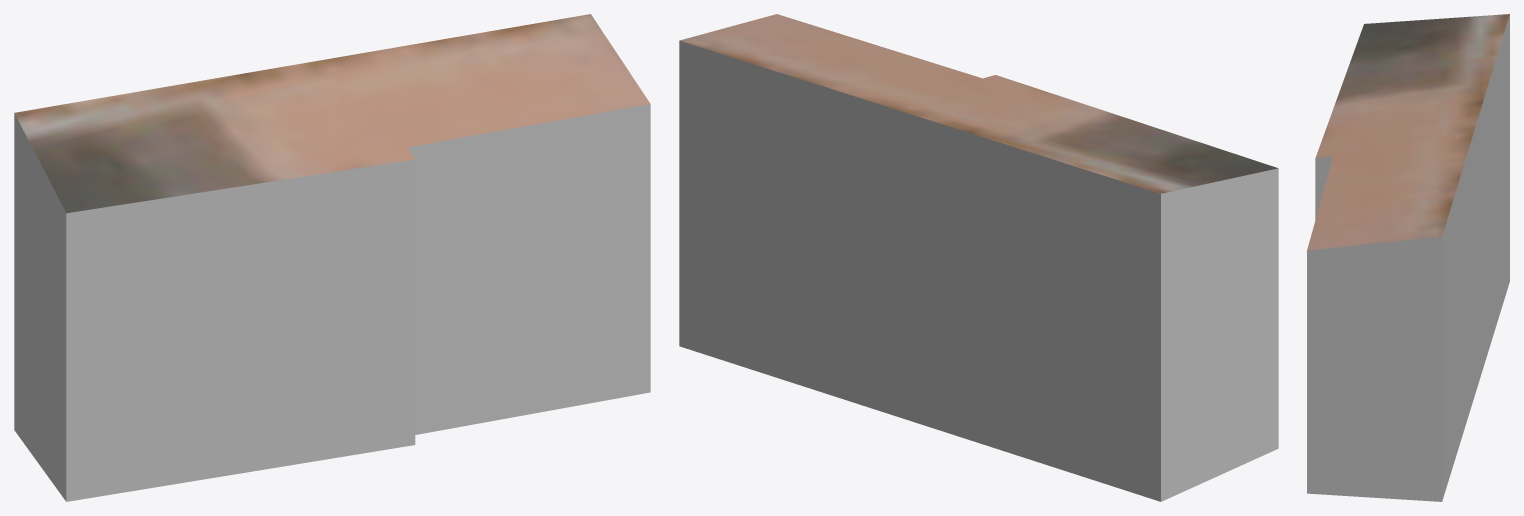
File: DEBW_0010007Tx5v.gltf
3 renders of one model, left to right at view 1: azimuth 30°, elevation 25°; view 2: azimuth 150°, elevation 25°; view 3: azimuth 270°, elevation 25°, orthographic. The views are drawn at different scales.
Visible parts, largest first — view 1: Z_UP; view 2: Z_UP; view 3: Z_UP.
Boxes of the visible parts, left/top/right/bottom form: Z_UP: left=14, top=14, right=650, bottom=501; Z_UP: left=679, top=14, right=1278, bottom=501; Z_UP: left=1307, top=14, right=1509, bottom=501.
Bounding box in the file's own units: 9.25 × 4.91 × 3.38.
2 materials, 1 textured.
